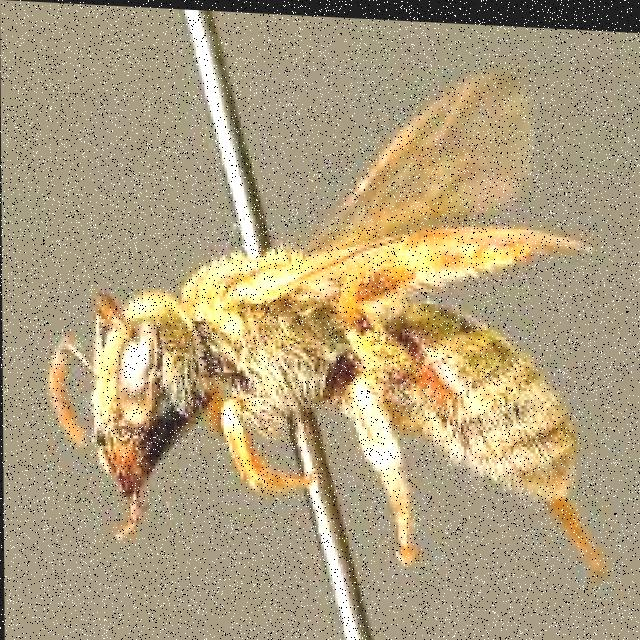Seladonia: (61, 24, 607, 640)
